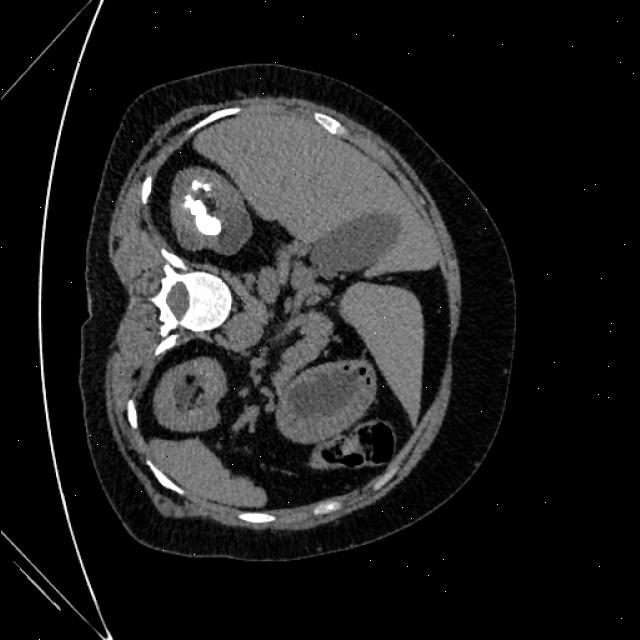kidneystone: (184, 191, 220, 235), (191, 180, 210, 191)
